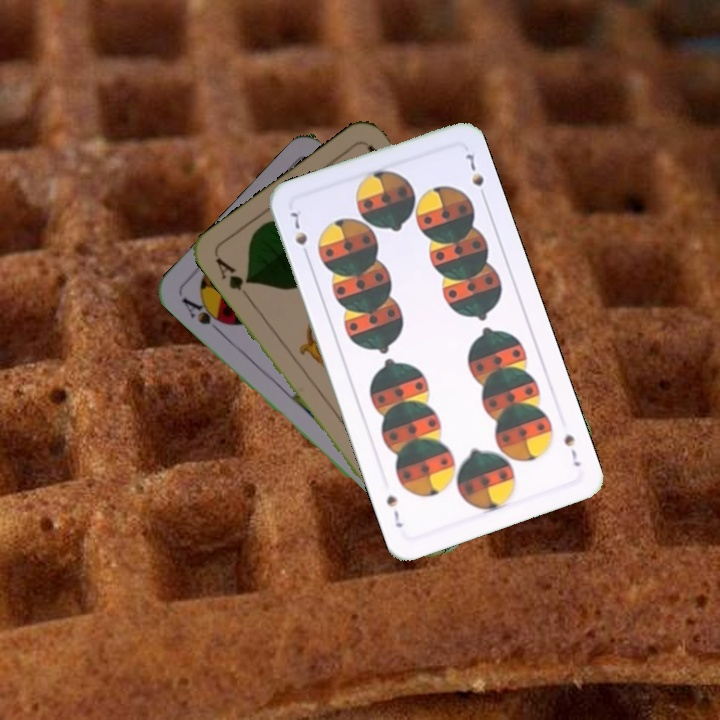GA: (211, 253, 254, 304)
S7: (286, 208, 312, 262), (559, 430, 584, 469)
SA: (178, 293, 231, 337)
